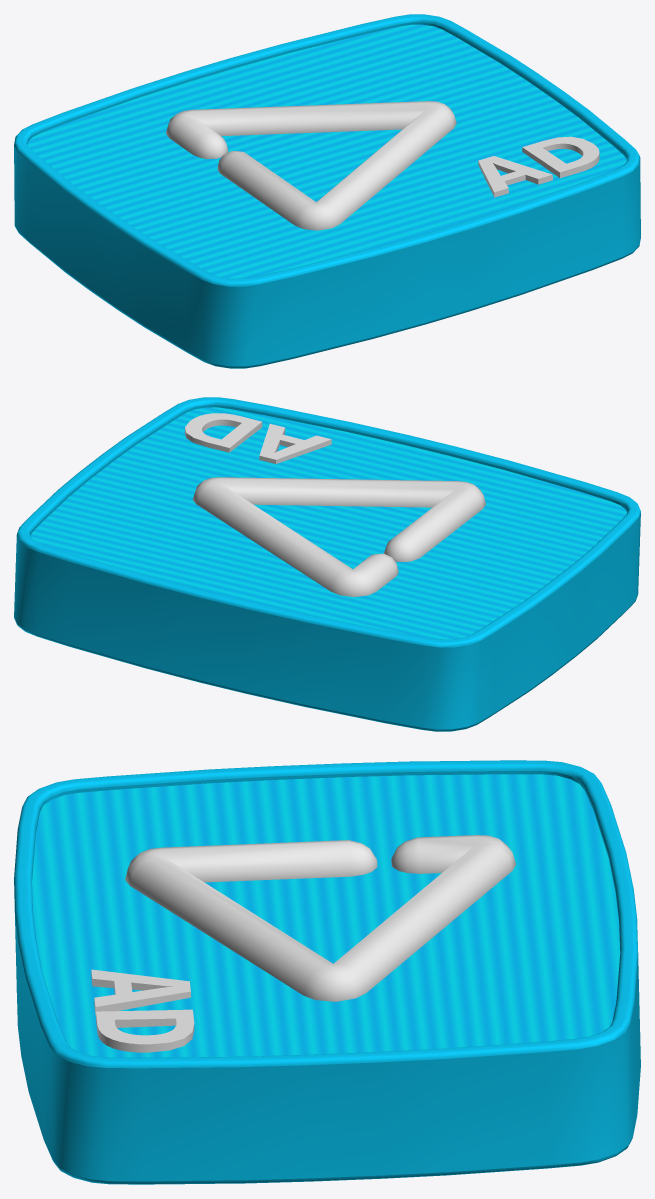
Rendered from ad button.fbx.
The picture shows the model from 3 angles, top to bottom: view 1: azimuth 30°, elevation 25°; view 2: azimuth 150°, elevation 25°; view 3: azimuth 270°, elevation 25°; orthographic projection. The views are drawn at different scales.
Parts seen in each view (by area): view 1: _gltfNode_13; view 2: _gltfNode_13; view 3: _gltfNode_13.
Part boxes in pixels (box(x1,y1,x2,y2)): _gltfNode_13: box(14, 14, 640, 368); _gltfNode_13: box(14, 397, 640, 731); _gltfNode_13: box(14, 760, 640, 1184).
Size of the model in its own units: 2.94 by 0.6669 by 2.47.
3 materials, 1 textured.
